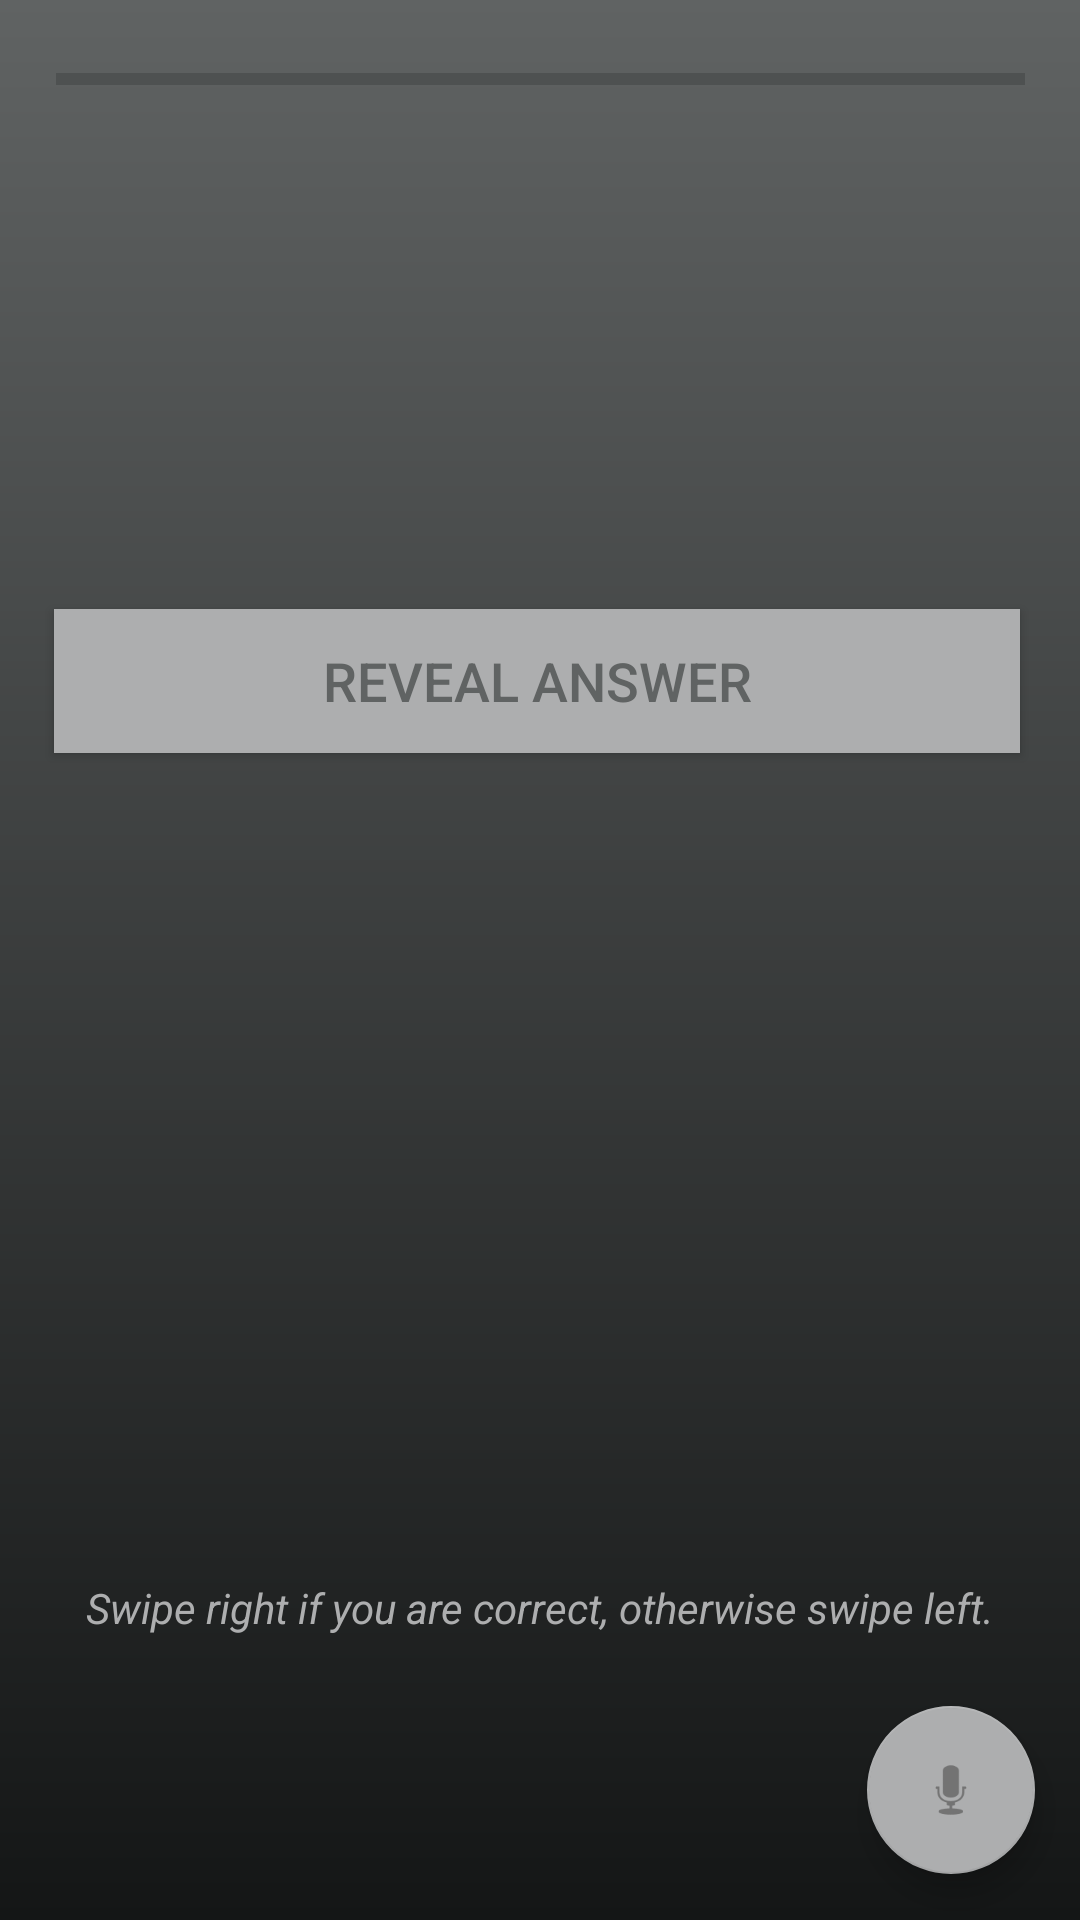

Icons on this 1080x1920 Android screen, each with its box as box(x1, y1, x2, y2):
speak now: box(867, 1706, 1035, 1874)
